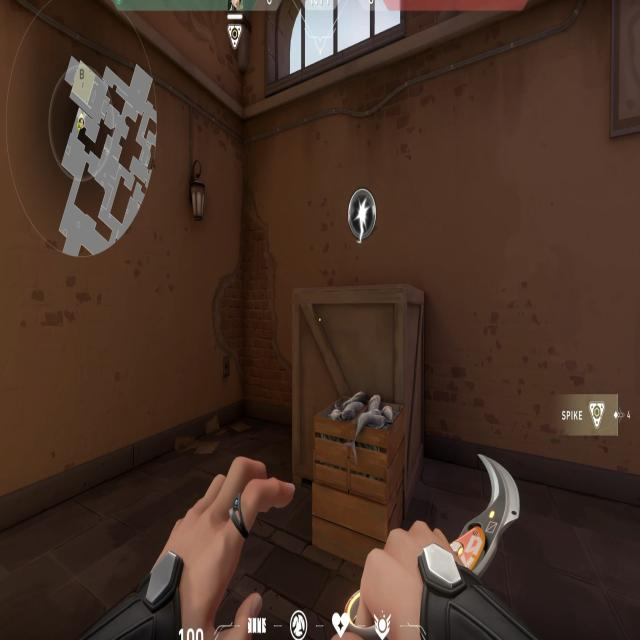B_Main_Wallbang: (265, 156, 441, 569)
Throwables: (252, 0, 426, 87)
